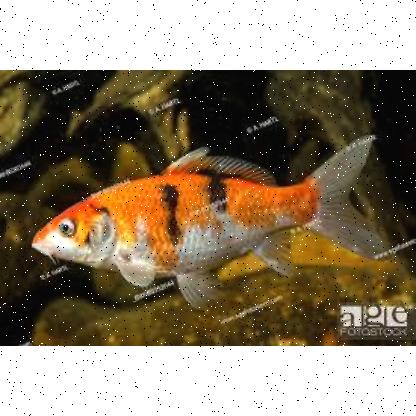ikan-mas: (32, 131, 384, 299)
